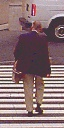person: (18, 22, 50, 109)
